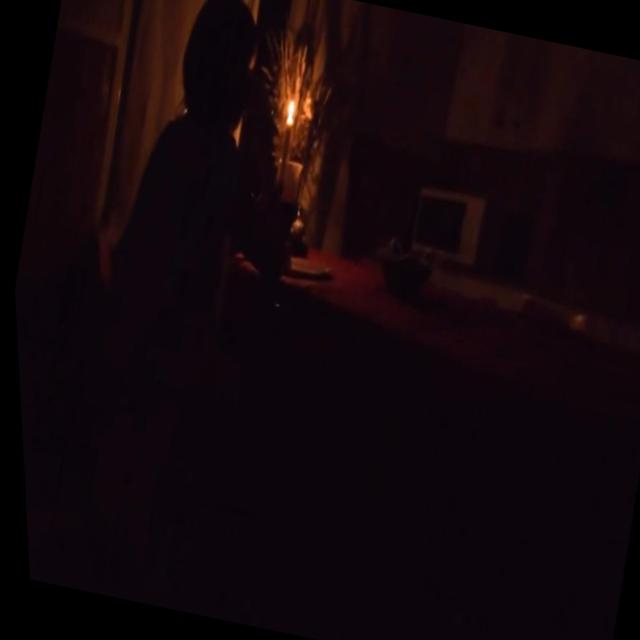fire: (279, 93, 300, 125)
